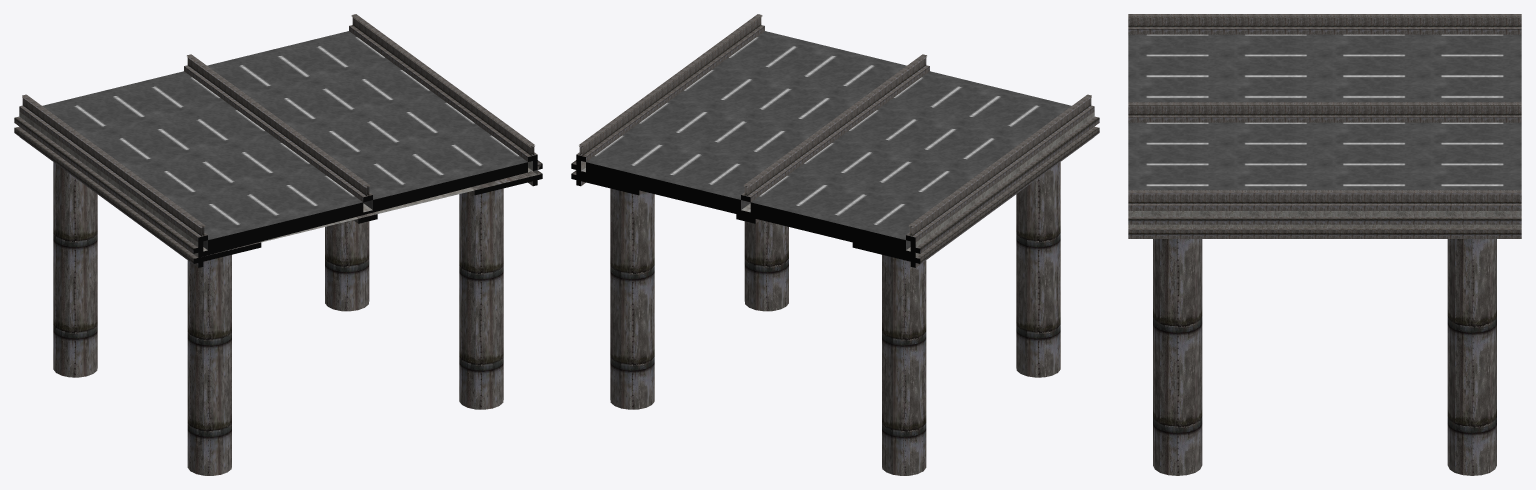
The model's file is HighwayStraightShort_3.fbx.
3 renders of one model, left to right at view 1: azimuth 30°, elevation 25°; view 2: azimuth 150°, elevation 25°; view 3: azimuth 270°, elevation 25°, orthographic. The views are drawn at different scales.
Visible parts, largest first — view 1: materialD150, materialA150, materialB150, materialC150; view 2: materialD150, materialA150, materialB150, materialC150; view 3: materialA150, materialD150, materialC150.
Part boxes in pixels (x1,y1,x2,y2): materialD150: (42, 31, 527, 249); materialA150: (14, 14, 542, 475); materialB150: (193, 155, 542, 267); materialC150: (19, 112, 537, 257); materialD150: (586, 31, 1071, 249); materialA150: (571, 14, 1099, 475); materialB150: (571, 155, 920, 267); materialC150: (581, 112, 1094, 257); materialA150: (1128, 14, 1521, 475); materialD150: (1128, 34, 1521, 190); materialC150: (1128, 211, 1521, 227).
Bounding box in the file's own units: 57.6 × 41.6 × 51.2.
